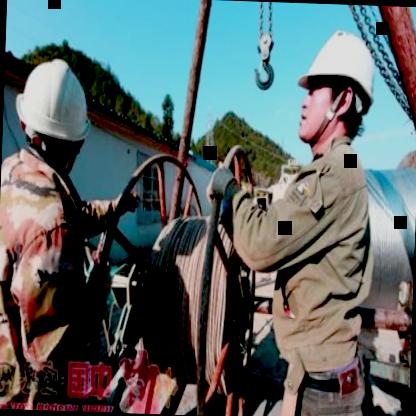helmet: (288, 17, 383, 160), (15, 53, 99, 177)
